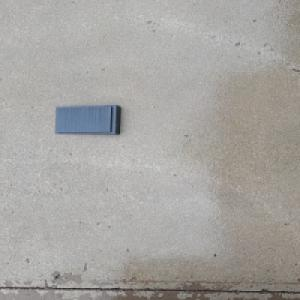PlasticPart: (53, 103, 122, 135)
